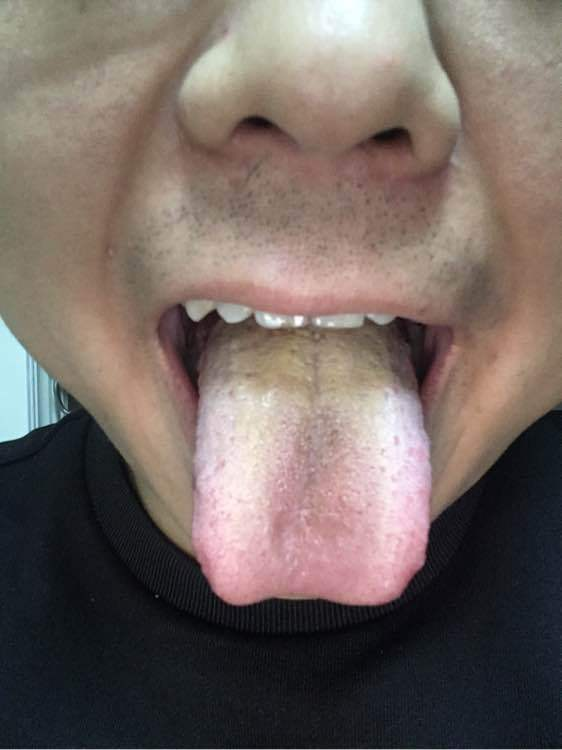huangtaishe: (192, 318, 431, 606)
xinfeiao: (239, 582, 364, 606)
